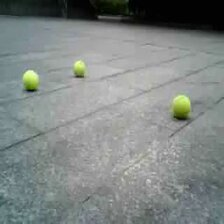tennis: (173, 95, 190, 118), (22, 70, 38, 89), (73, 60, 85, 77)
